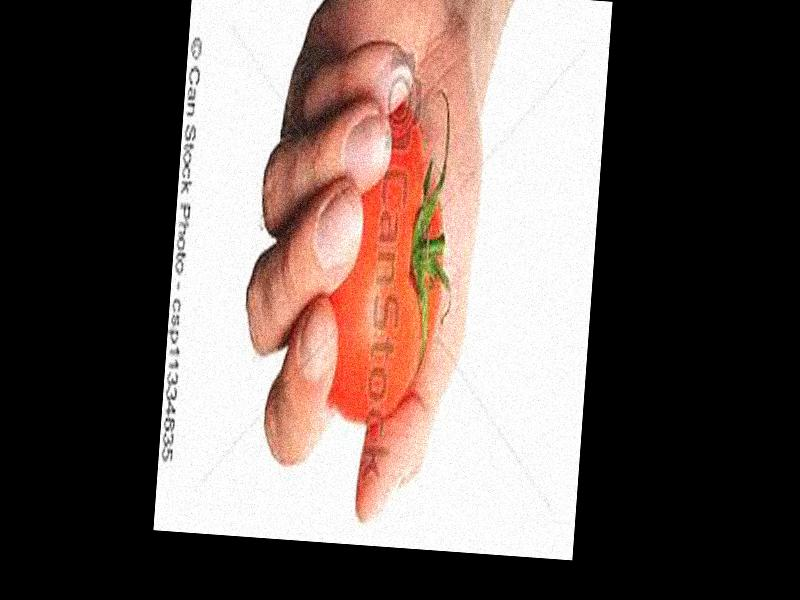Tomato: (323, 102, 452, 428)
